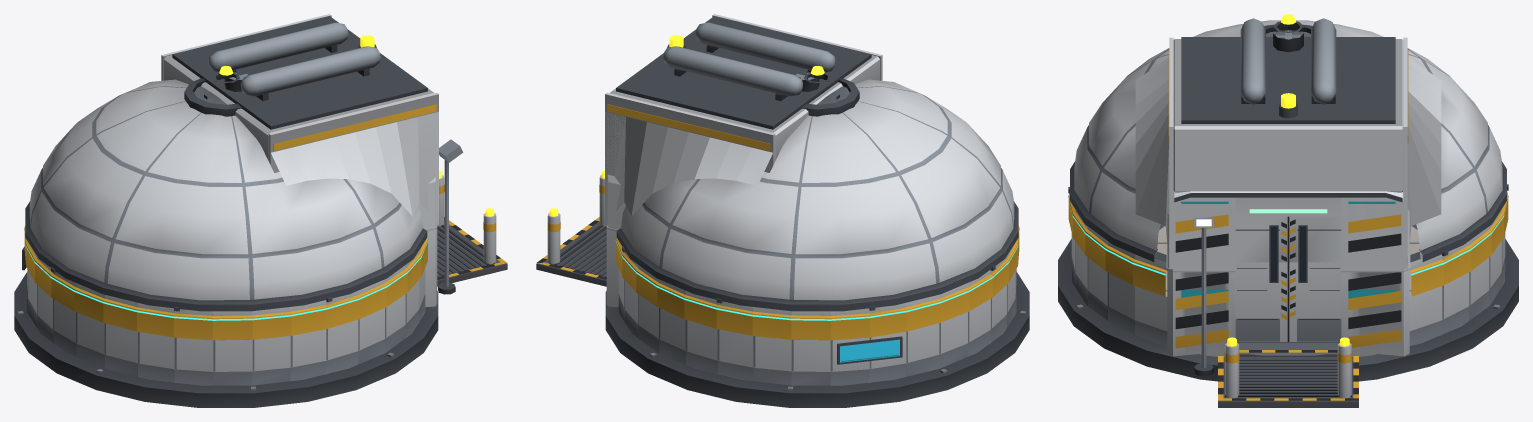
Rendered from airlock.glb.
3 renders of one model, left to right at view 1: azimuth 30°, elevation 25°; view 2: azimuth 150°, elevation 25°; view 3: azimuth 270°, elevation 25°, orthographic. The views are drawn at different scales.
Visible parts, largest first — view 1: Roof, Base, Porch, Wall_21, Wall_20, Wall_22, Wall_19, Wall_23, Wall_18, Wall_24, Wall_17, Wall_25 (+9 smaller); view 2: Roof, Base, Porch, Wall_10, Wall_09, Wall_08, Wall_13, Wall_07, Wall_11, Wall_14, Wall_12, Wall_06 (+9 smaller); view 3: Roof, OuterFrame, OuterFrameTop, Base, Porch, OuterDoorL, OuterDoorR, Wall_03, Wall_28, OuterDoorLTop, OuterDoorRTop, Wall_27 (+8 smaller).
Part boxes in pixels (box(x1,y1,x2,y2)): Roof: box(25, 14, 438, 311); Base: box(14, 272, 438, 407); Porch: box(437, 170, 507, 294); Wall_21: box(213, 311, 252, 385); Wall_20: box(174, 307, 213, 385); Wall_22: box(252, 307, 291, 385); Wall_19: box(136, 303, 174, 382); Wall_23: box(290, 300, 327, 381); Wall_18: box(103, 295, 137, 376); Wall_24: box(326, 291, 359, 374); Wall_17: box(74, 283, 104, 368); Wall_25: box(358, 279, 386, 364); Roof: box(605, 14, 1018, 311); Base: box(605, 272, 1029, 407); Porch: box(536, 170, 606, 286); Wall_10: box(791, 311, 830, 385); Wall_09: box(752, 307, 791, 385); Wall_08: box(716, 298, 753, 381); Wall_13: box(906, 295, 940, 376); Wall_07: box(684, 291, 717, 374); Wall_11: box(830, 308, 869, 385); Wall_14: box(939, 283, 969, 368); Wall_12: box(869, 303, 907, 382); Wall_06: box(657, 279, 685, 364); Roof: box(1070, 18, 1506, 268); OuterFrame: box(1167, 270, 1409, 356); OuterFrameTop: box(1167, 191, 1409, 269); Base: box(1058, 224, 1518, 381); Porch: box(1194, 283, 1358, 407); OuterDoorL: box(1235, 262, 1288, 341); OuterDoorR: box(1288, 262, 1341, 341); Wall_03: box(1409, 251, 1443, 345); Wall_28: box(1133, 251, 1167, 345); OuterDoorLTop: box(1235, 216, 1288, 262); OuterDoorRTop: box(1288, 216, 1341, 262); Wall_27: box(1105, 241, 1134, 334).
Size of the model in its own units: 7.71 by 4.31 by 6.54.
